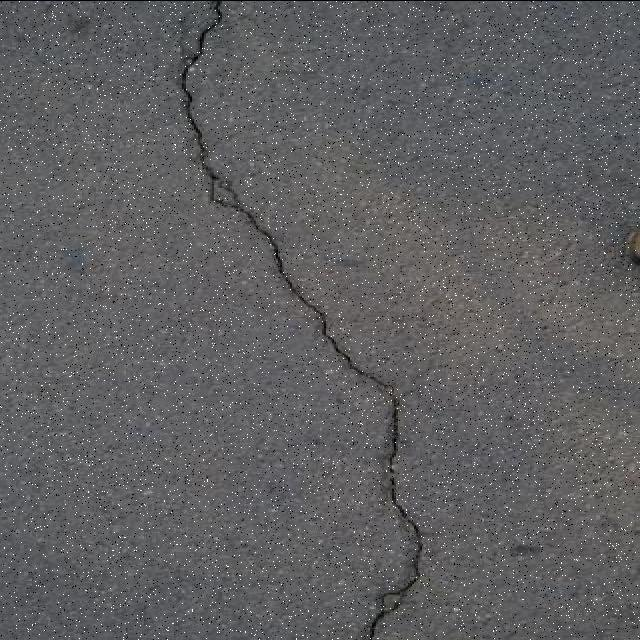Crack: (178, 2, 425, 636)
